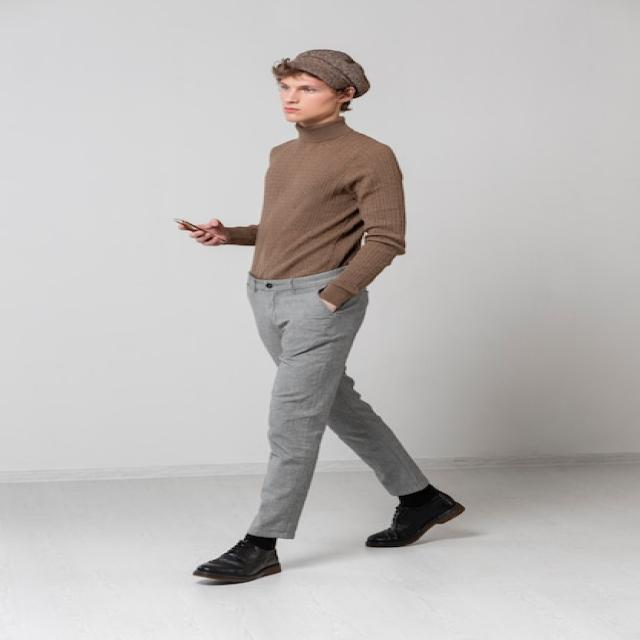Person: (173, 50, 462, 581)
